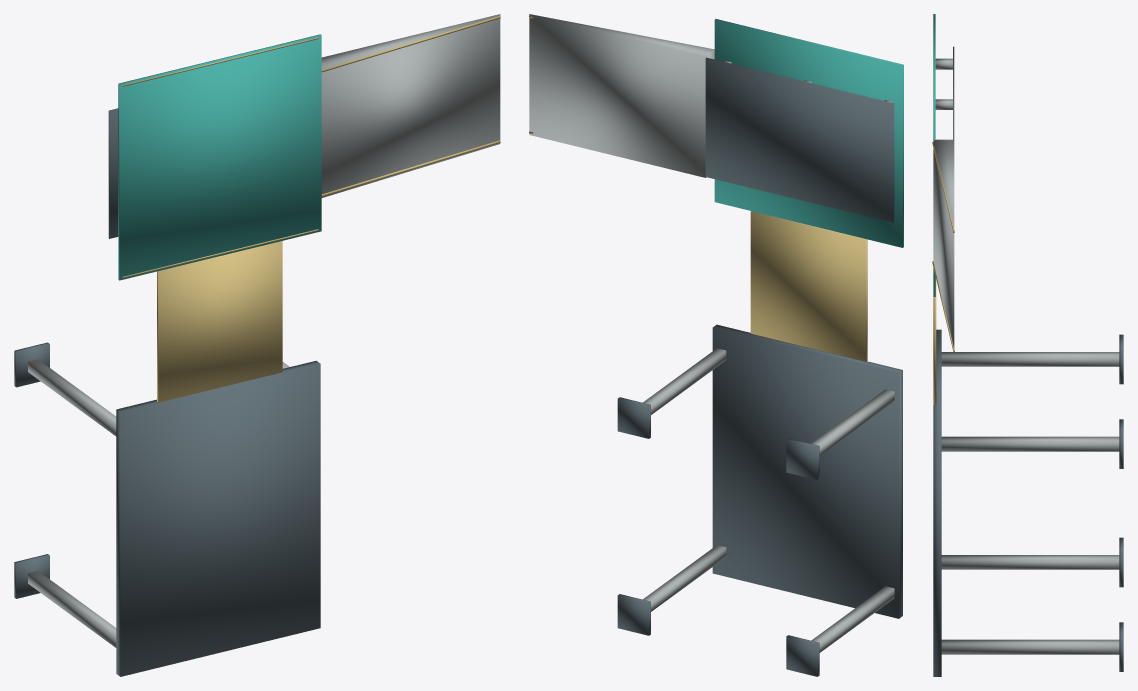
The picture shows the model from 3 angles, left to right: view 1: azimuth 30°, elevation 25°; view 2: azimuth 150°, elevation 25°; view 3: azimuth 270°, elevation 25°; orthographic projection. The views are drawn at different scales.
Visible parts, largest first — view 1: external_platform, turn_platform, exit_ramp, door_bridge, ground_leg_0.44_-2.33, ground_leg_0.44_-4.25, floor_spreader, ground_foot_0.44_-4.25, ground_foot_0.44_-2.33; view 2: external_platform, floor_spreader, exit_ramp, door_bridge, turn_platform, ground_leg_0.44_-2.33, ground_leg_2.16_-2.33, ground_leg_0.44_-4.25, ground_leg_2.16_-4.25, ground_foot_0.44_-2.33, ground_foot_0.44_-4.25, ground_foot_2.16_-2.33 (+1 smaller); view 3: exit_ramp, external_platform, ground_leg_2.16_-4.25, ground_leg_2.16_-2.33, ground_leg_0.44_-4.25, ground_leg_0.44_-2.33, door_bridge, turn_platform.
Part boxes in pixels (x1,y1,x2,y2): external_platform: (116, 360, 320, 676); turn_platform: (118, 34, 321, 280); exit_ramp: (321, 14, 500, 197); door_bridge: (157, 241, 282, 402); ground_leg_0.44_-2.33: (28, 359, 116, 436); ground_leg_0.44_-4.25: (28, 571, 116, 647); floor_spreader: (108, 108, 118, 238); ground_foot_0.44_-4.25: (14, 554, 49, 598); ground_foot_0.44_-2.33: (14, 342, 49, 387); external_platform: (712, 324, 902, 618); floor_spreader: (705, 57, 894, 222); exit_ramp: (529, 14, 714, 177); door_bridge: (750, 211, 867, 361); turn_platform: (714, 19, 903, 247); ground_leg_0.44_-2.33: (811, 389, 894, 455); ground_leg_2.16_-2.33: (643, 348, 726, 414); ground_leg_0.44_-4.25: (811, 586, 894, 652); ground_leg_2.16_-4.25: (643, 545, 726, 611); ground_foot_0.44_-2.33: (786, 438, 819, 479); ground_foot_0.44_-4.25: (786, 635, 819, 676); ground_foot_2.16_-2.33: (617, 397, 650, 438); exit_ramp: (933, 140, 954, 352); external_platform: (933, 329, 941, 676); ground_leg_2.16_-4.25: (941, 639, 1119, 654); ground_leg_2.16_-2.33: (941, 436, 1119, 451); ground_leg_0.44_-4.25: (941, 555, 1119, 569); ground_leg_0.44_-2.33: (941, 352, 1119, 366); door_bridge: (933, 278, 936, 404); turn_platform: (933, 14, 935, 296).
Bounding box in the file's own units: 3.78 × 5.38 × 1.64.
